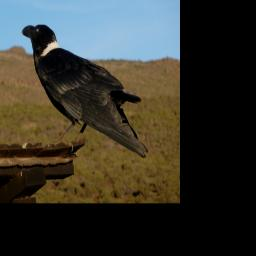Crow: (20, 20, 148, 159)
